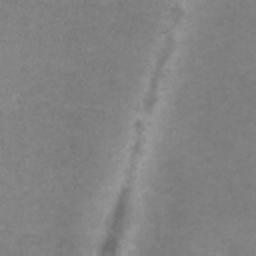Finishing roll printing: (100, 120, 147, 256), (141, 8, 184, 118)
